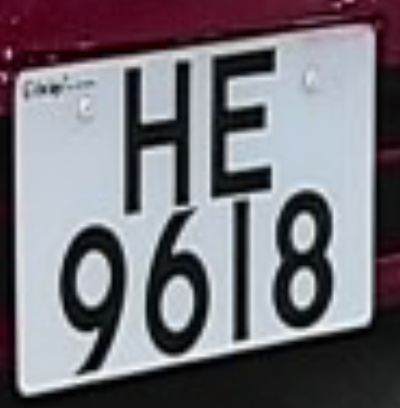1: (215, 191, 269, 351)
6: (136, 207, 220, 359)
8: (263, 180, 344, 340)
9: (47, 217, 137, 377)
E: (196, 38, 286, 200)
H: (103, 47, 202, 217)
